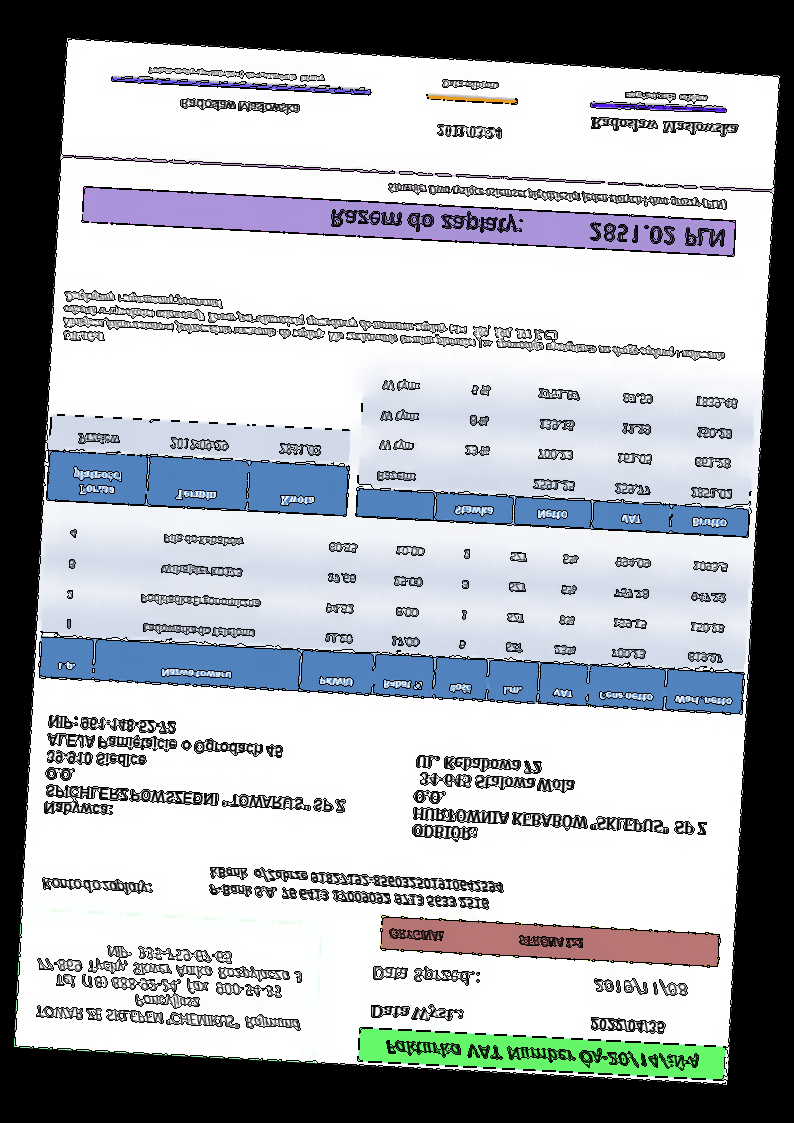Table: (37, 514, 751, 718), (352, 365, 757, 541), (46, 414, 351, 517)
TextBox: (61, 287, 731, 380), (40, 711, 353, 834), (408, 751, 714, 857), (28, 937, 308, 1038), (328, 202, 727, 252), (204, 862, 508, 915), (380, 1033, 703, 1075), (385, 177, 731, 215), (384, 923, 588, 953), (146, 63, 329, 89), (587, 112, 739, 140), (37, 872, 155, 902), (369, 961, 484, 989), (176, 96, 303, 119), (367, 999, 468, 1026), (590, 974, 691, 1001), (587, 1014, 667, 1038), (432, 120, 506, 143), (623, 87, 711, 106), (439, 76, 502, 95)
